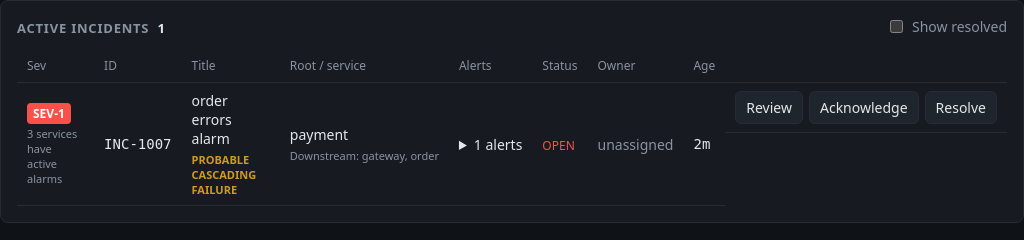
Test: shows probable root, downstream impact, severity reason, and correlated alerts
Check: the text "PROBABLE CASCADING FAILURE" is shown, box [192, 152, 256, 197]
Check: the text "Downstream: gateway, order" is shown, box [290, 148, 439, 163]
Click the heading "1 alerts" at (498, 144), box [474, 134, 522, 154]
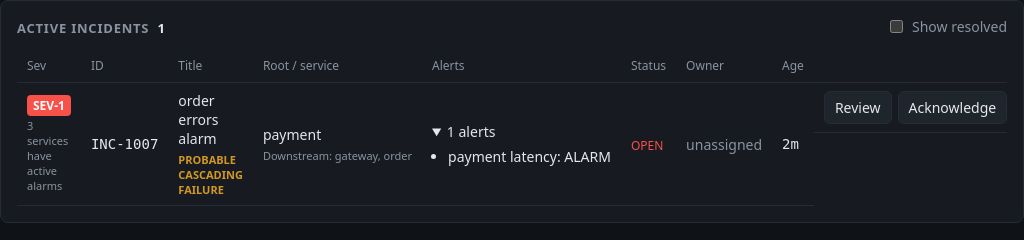
Check: the list item "payment latency: ALARM" is shown, box [448, 147, 611, 166]
